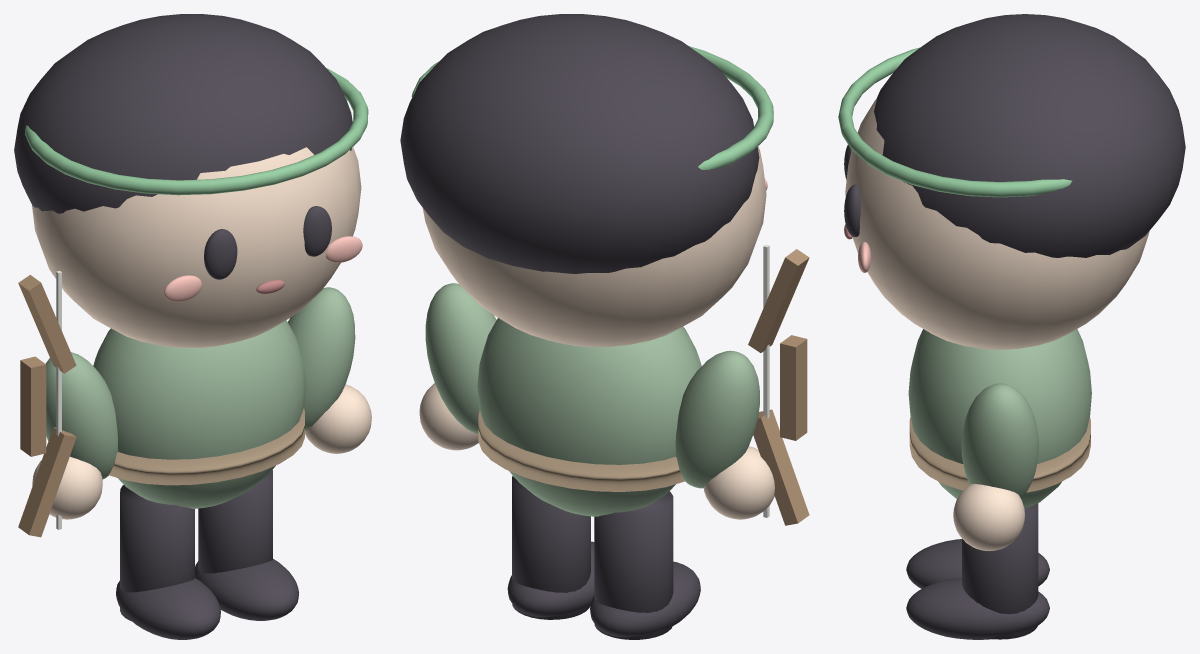
The model's file is r_archer.fbx.
The picture shows the model from 3 angles, left to right: view 1: azimuth 30°, elevation 25°; view 2: azimuth 150°, elevation 25°; view 3: azimuth 270°, elevation 25°; orthographic projection. The views are drawn at different scales.
Visible parts, largest first — view 1: hair, head_mesh, body, leg, band, arm_mesh, arm_mesh.001, leg.001, belt, shoe, shoe.001, hand_mesh (+9 smaller); view 2: hair, body, head_mesh, arm_mesh.001, leg, leg.001, arm_mesh, belt, hand_mesh.001, shoe, wp_bow_bot, wp_bow_mid (+5 smaller); view 3: hair, head_mesh, body, arm_mesh, leg.001, band, shoe.001, hand_mesh, belt, shoe, eye.001.
Boxes of the visible parts, x1,y1,x2,y2 form: hair: (14, 14, 352, 213); head_mesh: (32, 147, 361, 347); body: (93, 320, 305, 508); leg: (120, 485, 194, 621); band: (25, 68, 368, 195); arm_mesh: (288, 287, 355, 430); arm_mesh.001: (45, 352, 117, 479); leg.001: (198, 470, 272, 573); belt: (109, 407, 304, 485); shoe: (116, 578, 220, 639); shoe.001: (195, 559, 298, 620); hand_mesh: (305, 384, 371, 453); hair: (400, 14, 759, 273); body: (477, 318, 701, 516); head_mesh: (422, 146, 766, 347); arm_mesh.001: (675, 350, 759, 488); leg: (594, 491, 673, 639); leg.001: (512, 476, 590, 619); arm_mesh: (425, 283, 496, 433); belt: (478, 410, 685, 491); hand_mesh.001: (704, 446, 774, 519); shoe: (590, 561, 700, 637); wp_bow_bot: (753, 409, 809, 525); wp_bow_mid: (780, 335, 807, 440); hair: (874, 14, 1185, 257); head_mesh: (845, 98, 1149, 349); body: (908, 329, 1091, 508); arm_mesh: (961, 383, 1038, 498); leg.001: (962, 503, 1038, 639); band: (838, 47, 1071, 197); shoe.001: (906, 577, 1049, 639); hand_mesh: (953, 484, 1024, 551); belt: (909, 417, 1090, 492); shoe: (906, 539, 1049, 588); eye.001: (844, 184, 860, 236).
Size of the model in its own units: 0.7458 by 1.15 by 0.6276.
